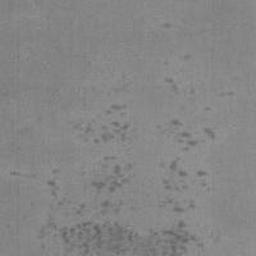Water spot: (20, 42, 252, 256), (65, 67, 141, 150)
